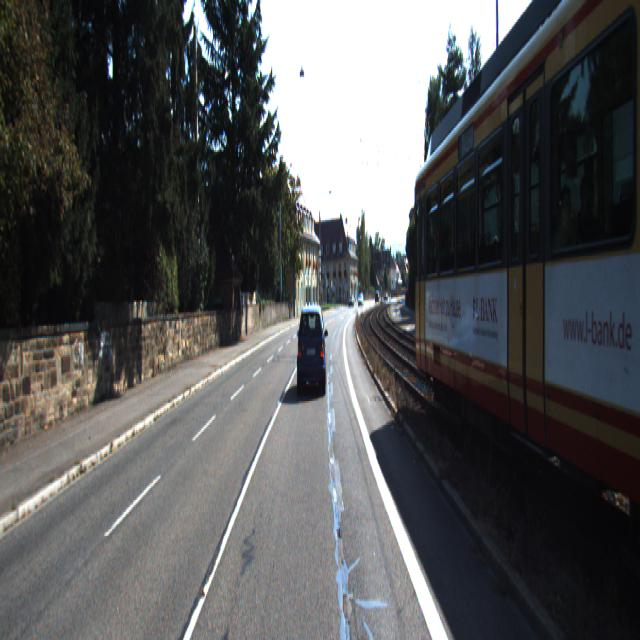Car: (415, 0, 639, 616), (298, 304, 328, 399)
